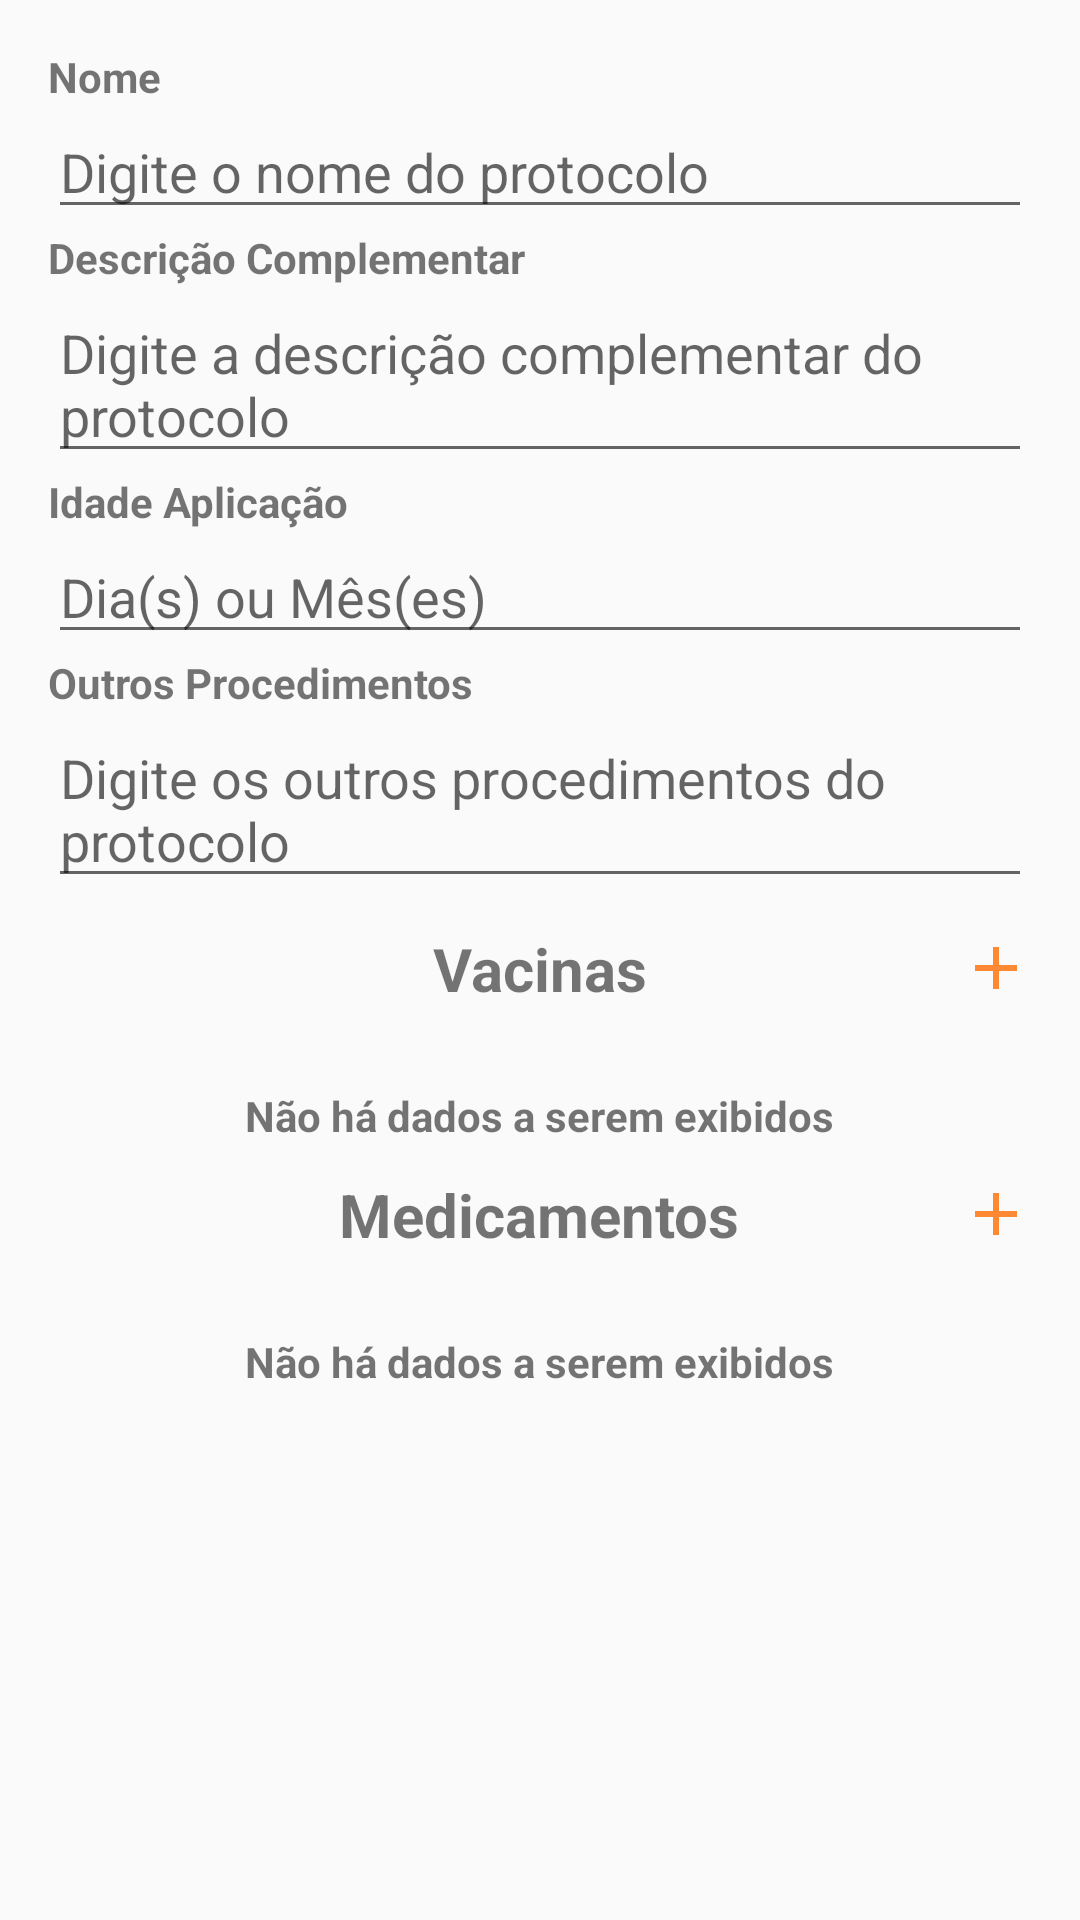

Where icons sit on this 1080px×1920px app screen, as (x1, y1, x2, y2):
action: (975, 947, 1017, 989), (975, 1193, 1017, 1235)
